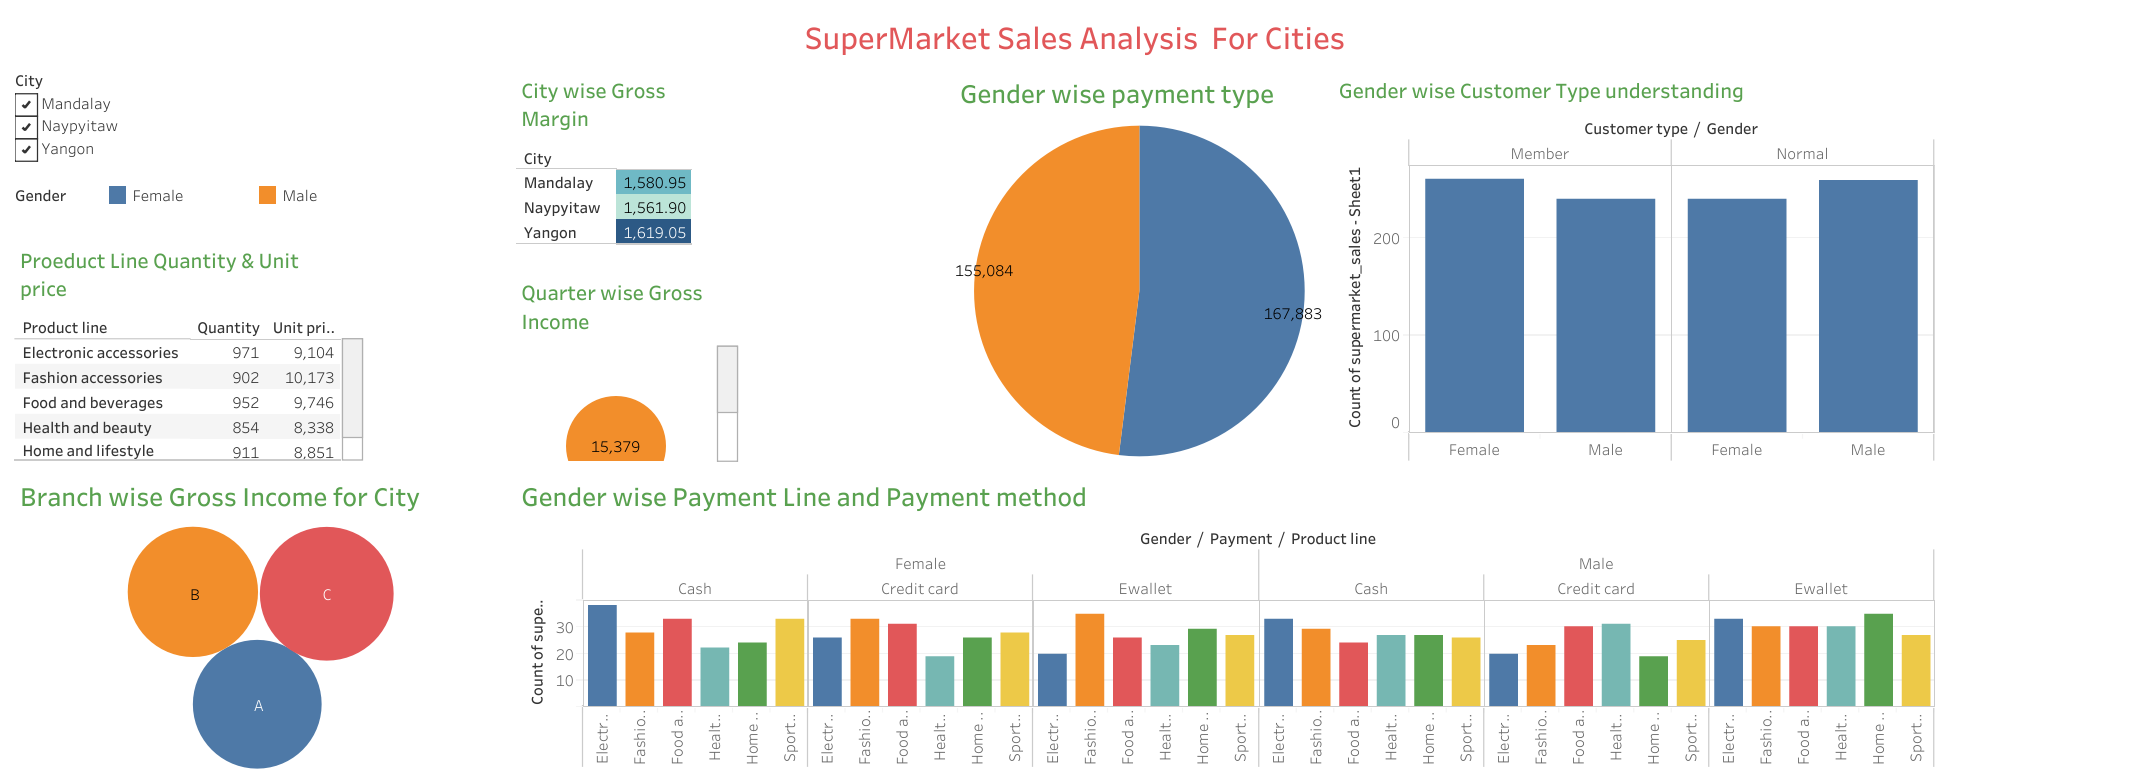

The page's visual inventory and layout, read from the dashboard file:
{"tool":"tableau","page":{"name":"Dashboard 1","canvas":[1000,1000],"units":"permille","ordinal":0},"visuals":[{"type":"title","box":[4.7,9.5,990.7,58.3]},{"type":"filter","title":"Sheet 1","param":"[federated.0ski1p402210ww164b8do01qsjdm].[none:City:nk]","box":[4.7,67.8,233.1,149.8]},{"type":"worksheet","title":"Sheet 2","mark":"Square","rows":["City"],"box":[237.8,67.8,204.1,261.9]},{"type":"worksheet","title":"Sheet 3","mark":"Pie","box":[441.9,67.8,175.9,523.8]},{"type":"worksheet","title":"Sheet 4","mark":"Automatic","rows":["supermarket!sales - Sheet1_ABC305044C4E4FBDA5C5147BEE233A0F"],"cols":["Customer type","Gender"],"box":[617.7,67.8,284.6,523.8]},{"type":"legend","title":"Sheet 2","param":"[federated.0ski1p402210ww164b8do01qsjdm].[sum:gross margin percentage:qk]","box":[902.3,67.8,93,28.5]},{"type":"legend","title":"Sheet 3","param":"[federated.0ski1p402210ww164b8do01qsjdm].[none:Gender:nk]","box":[4.7,217.6,233.1,70.5]},{"type":"worksheet","title":"Sheet 7","mark":"Automatic","rows":["Product line"],"box":[4.7,288.1,233.1,303.5]},{"type":"worksheet","title":"Sheet 8","mark":"Pie","box":[237.8,329.7,204.1,261.9]},{"type":"worksheet","title":"Sheet 1","mark":"Circle","box":[4.7,591.6,233.1,398.9]},{"type":"worksheet","title":"Sheet 6","mark":"Automatic","rows":["supermarket!sales - Sheet1_ABC305044C4E4FBDA5C5147BEE233A0F"],"cols":["Gender","Payment","Product line"],"box":[237.8,591.6,664.5,398.9]}]}

Visuals, with their boxes on the dashboard's canvas, which has no fixed pixel size, in thousandths of its width and height (x1, y1, x2, y2). These are canvas units, not pixel positions in the 2149x783 screenshot, which may show the page scaled, cropped or inside an application window:
title: select_region(5, 10, 995, 68)
"Sheet 1" filter: select_region(5, 68, 238, 218)
"Sheet 2" worksheet (Square marks): select_region(238, 68, 442, 330)
"Sheet 3" worksheet (Pie marks): select_region(442, 68, 618, 592)
"Sheet 4" worksheet: select_region(618, 68, 902, 592)
"Sheet 2" legend: select_region(902, 68, 995, 96)
"Sheet 3" legend: select_region(5, 218, 238, 288)
"Sheet 7" worksheet: select_region(5, 288, 238, 592)
"Sheet 8" worksheet (Pie marks): select_region(238, 330, 442, 592)
"Sheet 1" worksheet (Circle marks): select_region(5, 592, 238, 990)
"Sheet 6" worksheet: select_region(238, 592, 902, 990)
